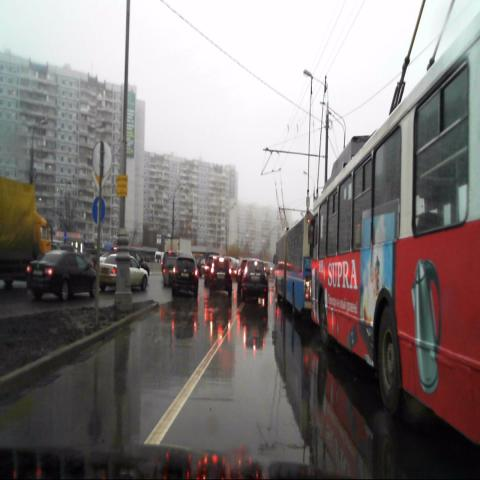4_1_1: (92, 196, 106, 224)
